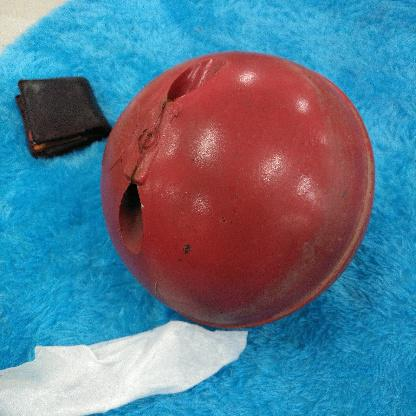red_buoy: (99, 48, 377, 332)
